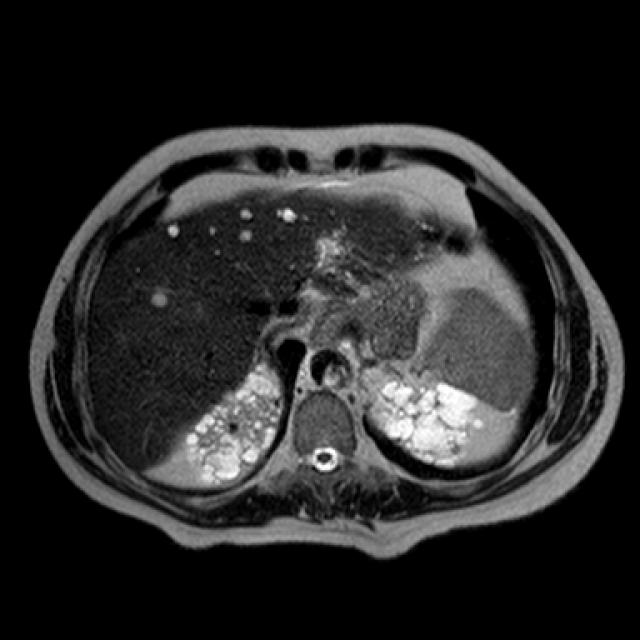sag: (187, 367, 283, 482)
sol: (371, 372, 485, 468)
